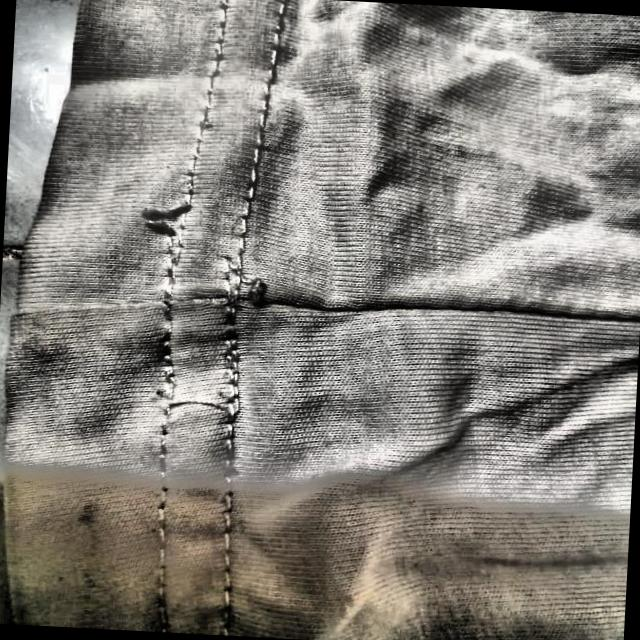gray stitch: (99, 178, 205, 268), (217, 258, 314, 334), (148, 378, 268, 429)
